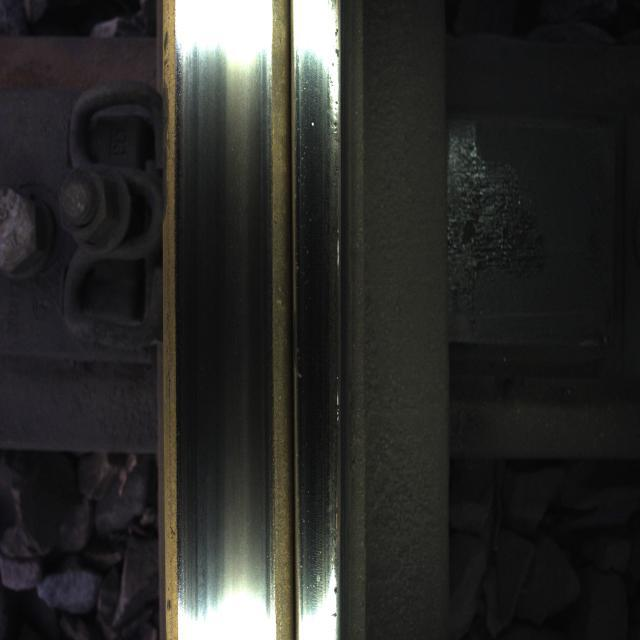crack: (286, 45, 345, 640)
normal: (176, 50, 269, 611)
